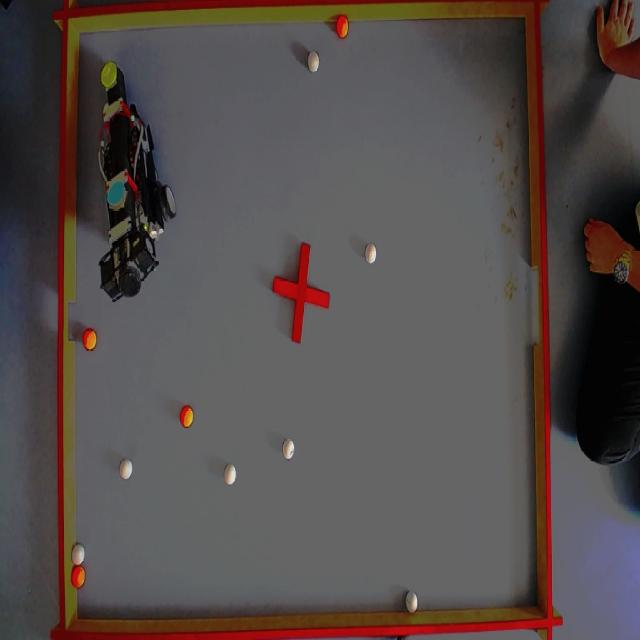orange: (83, 330, 98, 350), (182, 407, 195, 428), (76, 568, 88, 588), (337, 19, 349, 38)
robot: (93, 58, 179, 306)
robot-front: (100, 60, 118, 90)
robot-rear: (107, 182, 126, 209)
white: (406, 591, 420, 612), (306, 52, 320, 72), (121, 460, 134, 480), (74, 544, 86, 564), (226, 466, 238, 486), (367, 247, 379, 264)
